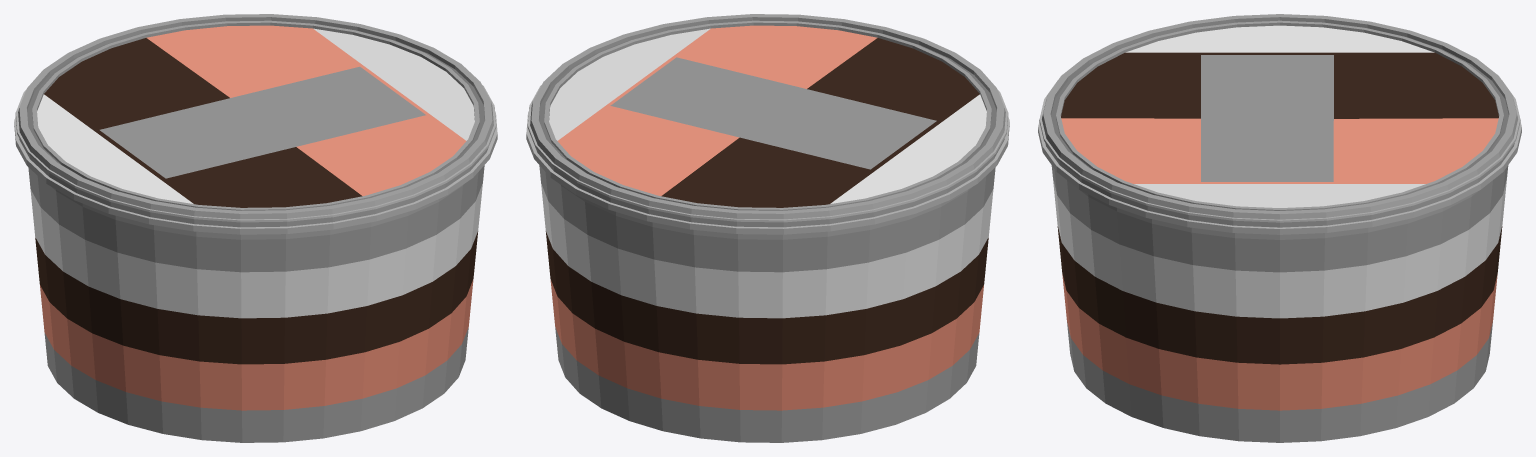
Rendered from Neopolitan Ice Cream Bucket.fbx.
3 renders of one model, left to right at view 1: azimuth 30°, elevation 25°; view 2: azimuth 150°, elevation 25°; view 3: azimuth 270°, elevation 25°, orthographic.
Visible parts, largest first — view 1: Neopolitan Ice Cream Bucket; view 2: Neopolitan Ice Cream Bucket; view 3: Neopolitan Ice Cream Bucket.
Boxes of the visible parts, x1,y1,x2,y2 form: Neopolitan Ice Cream Bucket: [14, 14, 497, 442]; Neopolitan Ice Cream Bucket: [526, 14, 1009, 442]; Neopolitan Ice Cream Bucket: [1038, 14, 1521, 442].
Bounding box in the file's own units: 52.97 × 29.02 × 52.97.
1 material, 1 textured.
